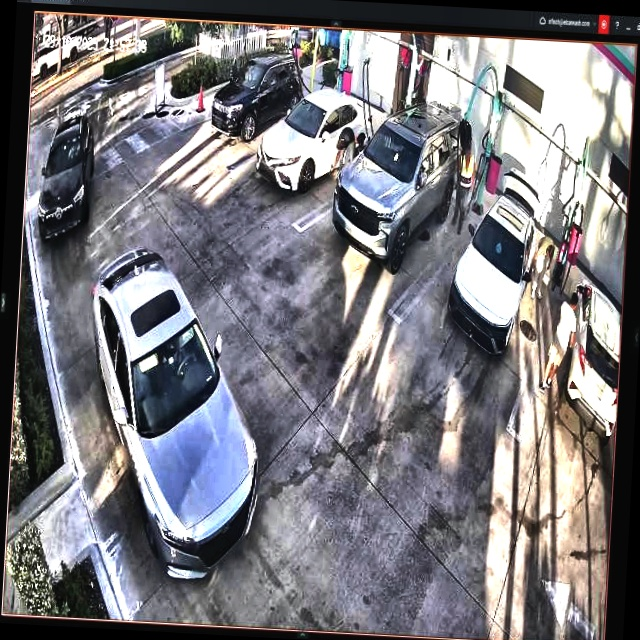Car: (78, 248, 272, 586), (329, 97, 461, 275), (449, 166, 543, 358), (259, 85, 371, 200), (211, 54, 302, 150)
